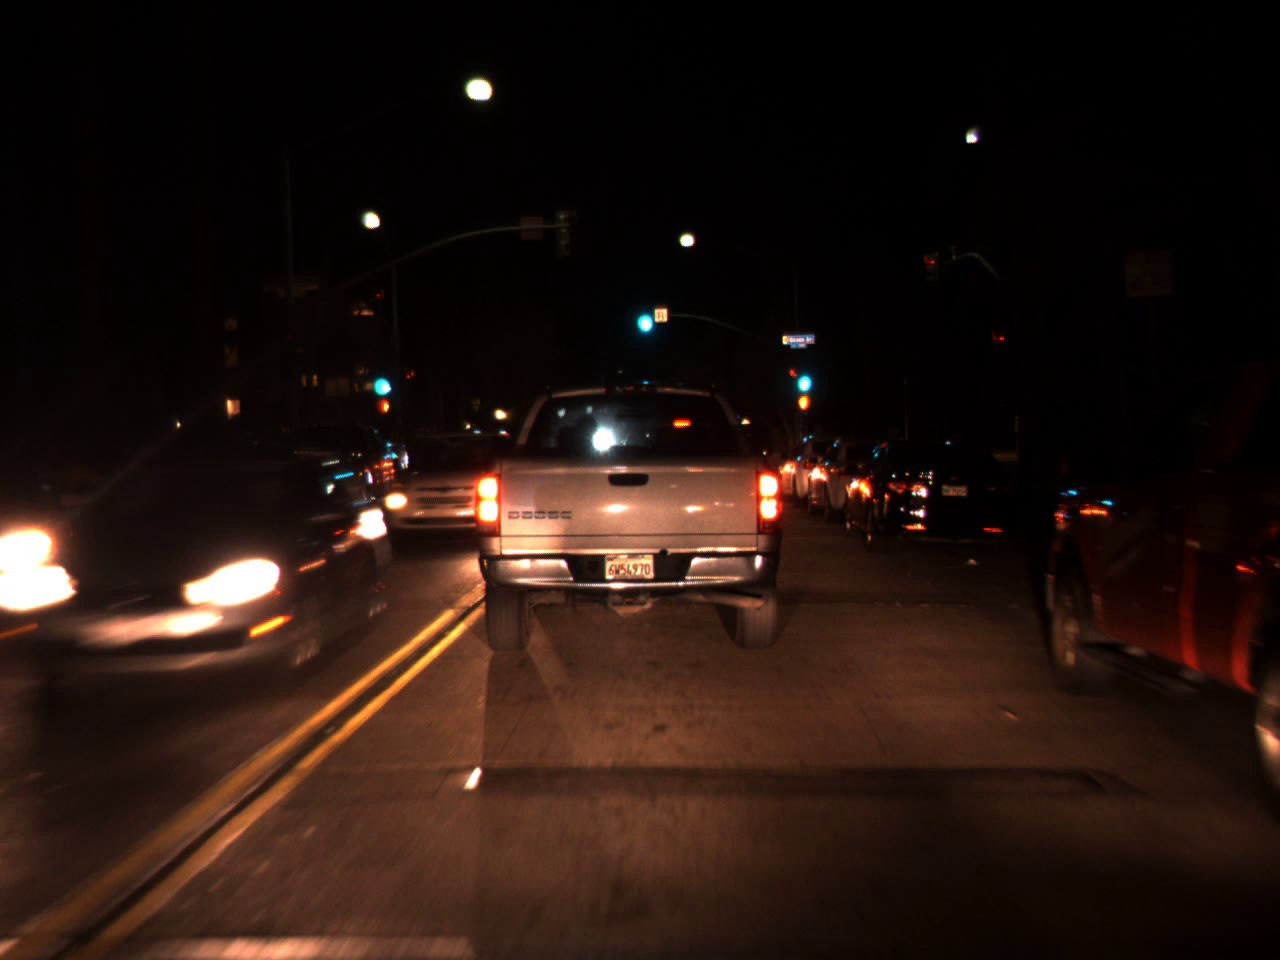go: (631, 293, 656, 338), (792, 353, 813, 398), (371, 359, 389, 401)
